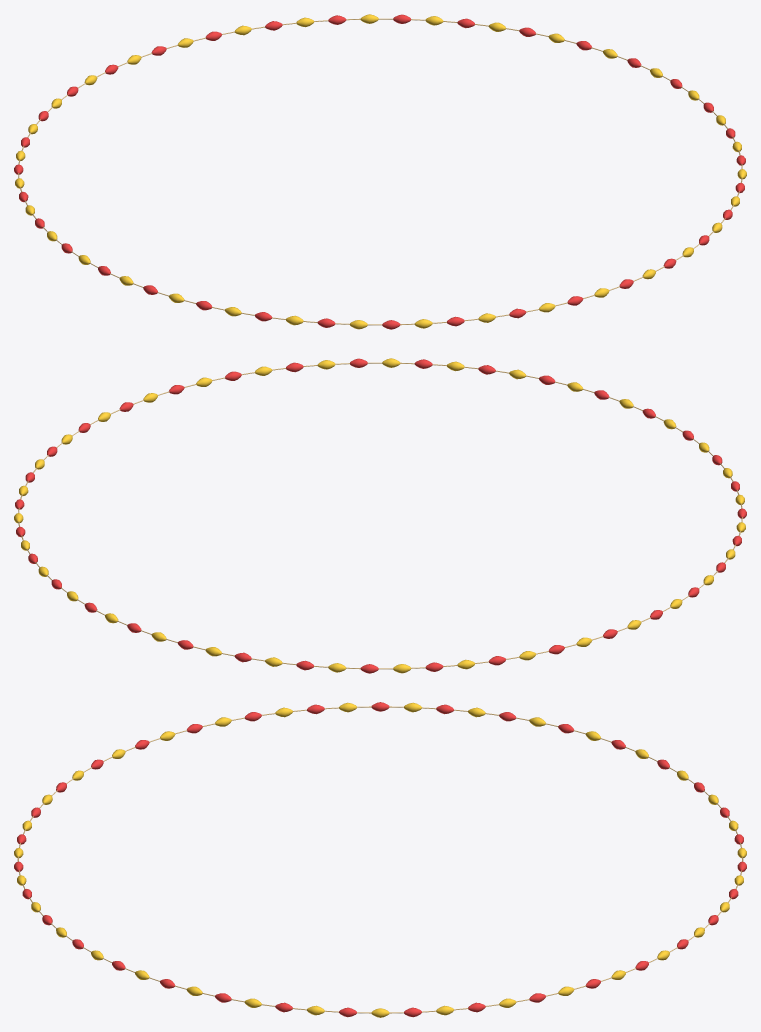
The model's file is SharkBaitFloatLine.obj.
3 views of the same model, one above another, from view 1: azimuth 30°, elevation 25°; view 2: azimuth 150°, elevation 25°; view 3: azimuth 270°, elevation 25° (orthographic).
Parts seen in each view (by area): view 1: FloatsA, FloatsB, Rope; view 2: FloatsA, FloatsB, Rope; view 3: FloatsA, FloatsB, Rope.
Part boxes in pixels (<box>): FloatsA: <box>15,14,746,329</box>; FloatsB: <box>14,14,745,329</box>; Rope: <box>18,18,742,325</box>; FloatsA: <box>14,358,745,673</box>; FloatsB: <box>15,358,746,673</box>; Rope: <box>18,362,742,669</box>; FloatsA: <box>14,702,746,1017</box>; FloatsB: <box>14,702,746,1017</box>; Rope: <box>17,706,743,1013</box>.
Bounding box in the file's own units: 89.14 × 1.2 × 89.05.
